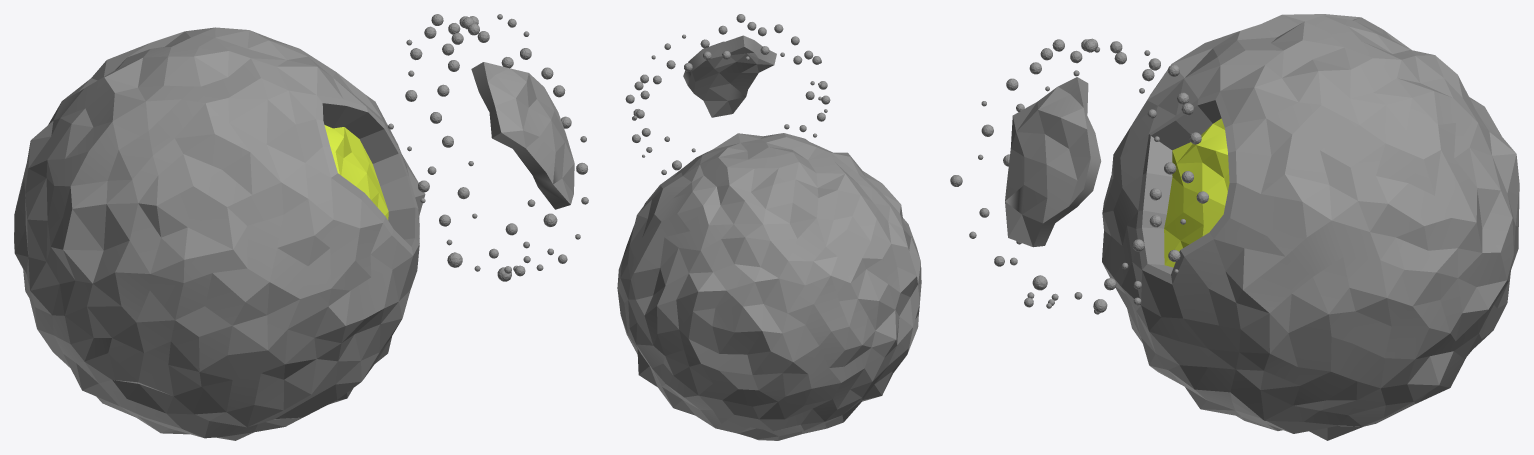
The picture shows the model from 3 angles, left to right: view 1: azimuth 30°, elevation 25°; view 2: azimuth 150°, elevation 25°; view 3: azimuth 270°, elevation 25°; orthographic projection. The views are drawn at different scales.
Visible parts, largest first — view 1: GeoSphere001, Object001; view 2: GeoSphere001, Object001; view 3: GeoSphere001, Object001.
Part boxes in pixels (box(x1,y1,x2,y2)): GeoSphere001: box(14, 27, 425, 440); Object001: box(471, 62, 574, 209); GeoSphere001: box(617, 133, 921, 440); Object001: box(683, 35, 776, 117); GeoSphere001: box(1102, 14, 1519, 440); Object001: box(1005, 77, 1101, 247).
Bounding box in the file's own units: 182 × 167 × 192.
